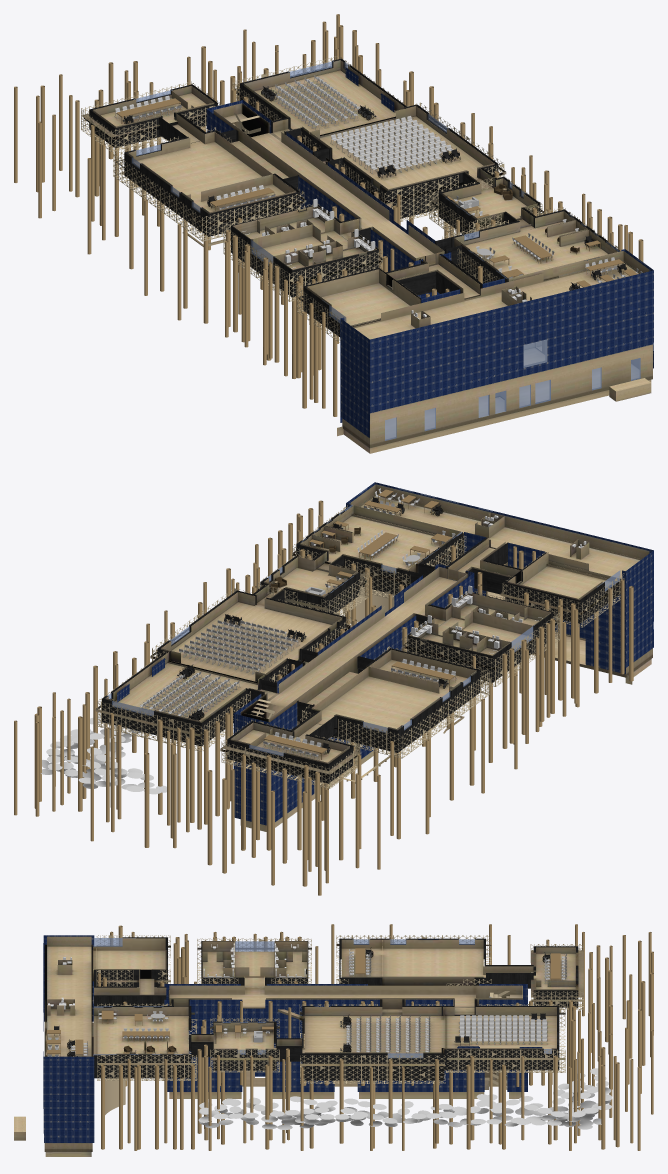
Rendered from EXPO_22_v4_optimized.gltf.
3 views of the same model, one above another, from view 1: azimuth 30°, elevation 25°; view 2: azimuth 150°, elevation 25°; view 3: azimuth 270°, elevation 25° (orthographic). The views are drawn at different scales.
Visible parts, largest first — view 1: FLOORS_22, CLT_22, SOLS_22, DOS_22, INS_22, WINS_22, Exteriors:WC_Legs_21, Exteriors:WC_2_Big_Cube_22, Exteriors:WC_8_Big_Cube_22, Exteriors:WC_3_Big_Cube_22, Exteriors:WC_1_Cube_22, PILLS_21 (+6 smaller); view 2: FLOORS_22, CLT_22, DOS_22, SOLS_22, Exteriors:WC_Legs_21, added_Walls_22, Exteriors:WC_2_Big_Cube_22, Exteriors:WC_8_Big_Cube_22, Exteriors:WC_3_Big_Cube_22, Exteriors:WC_1_Cube_22, WINS_22, PILLS_21 (+10 smaller); view 3: FLOORS_22, CLT_22, DOS_22, SOLS_22, Exteriors:WC_8_Big_Cube_22, Flowers, Flowers2, Flowers1, Exteriors:WC_Legs_21, Exteriors:WC_6_Big_Cube_22, WINS_22, INS_22 (+19 smaller).
Part boxes in pixels (x1,y1,x2,y2): FLOORS_22: [81, 70, 638, 339]; CLT_22: [84, 60, 651, 453]; SOLS_22: [206, 67, 653, 437]; DOS_22: [89, 58, 620, 337]; INS_22: [121, 108, 652, 447]; WINS_22: [132, 61, 645, 440]; Exteriors:WC_Legs_21: [99, 144, 448, 416]; Exteriors:WC_2_Big_Cube_22: [113, 127, 304, 241]; Exteriors:WC_8_Big_Cube_22: [232, 56, 504, 221]; Exteriors:WC_3_Big_Cube_22: [223, 204, 382, 301]; Exteriors:WC_1_Cube_22: [81, 81, 221, 151]; PILLS_21: [302, 288, 449, 408]; FLOORS_22: [113, 496, 639, 774]; CLT_22: [95, 494, 651, 831]; DOS_22: [102, 505, 620, 783]; SOLS_22: [117, 482, 653, 825]; Exteriors:WC_Legs_21: [116, 610, 598, 870]; added_Walls_22: [292, 484, 649, 737]; Exteriors:WC_2_Big_Cube_22: [302, 646, 489, 758]; Exteriors:WC_8_Big_Cube_22: [97, 588, 351, 751]; Exteriors:WC_3_Big_Cube_22: [404, 590, 560, 686]; Exteriors:WC_1_Cube_22: [221, 719, 360, 788]; WINS_22: [106, 488, 620, 756]; PILLS_21: [513, 546, 633, 682]; FLOORS_22: [47, 946, 583, 1056]; CLT_22: [44, 938, 583, 1156]; DOS_22: [94, 937, 578, 1080]; SOLS_22: [43, 935, 542, 1142]; Exteriors:WC_8_Big_Cube_22: [299, 1004, 565, 1083]; Flowers: [199, 1081, 611, 1119]; Flowers2: [198, 1073, 610, 1129]; Flowers1: [198, 1068, 612, 1125]; Exteriors:WC_Legs_21: [137, 1023, 568, 1149]; Exteriors:WC_6_Big_Cube_22: [97, 1003, 196, 1080]; WINS_22: [93, 938, 552, 1058]; INS_22: [14, 944, 444, 1151].
Size of the model in its own units: 13.76 by 4.66 by 25.11.
26 materials, 21 textured.
